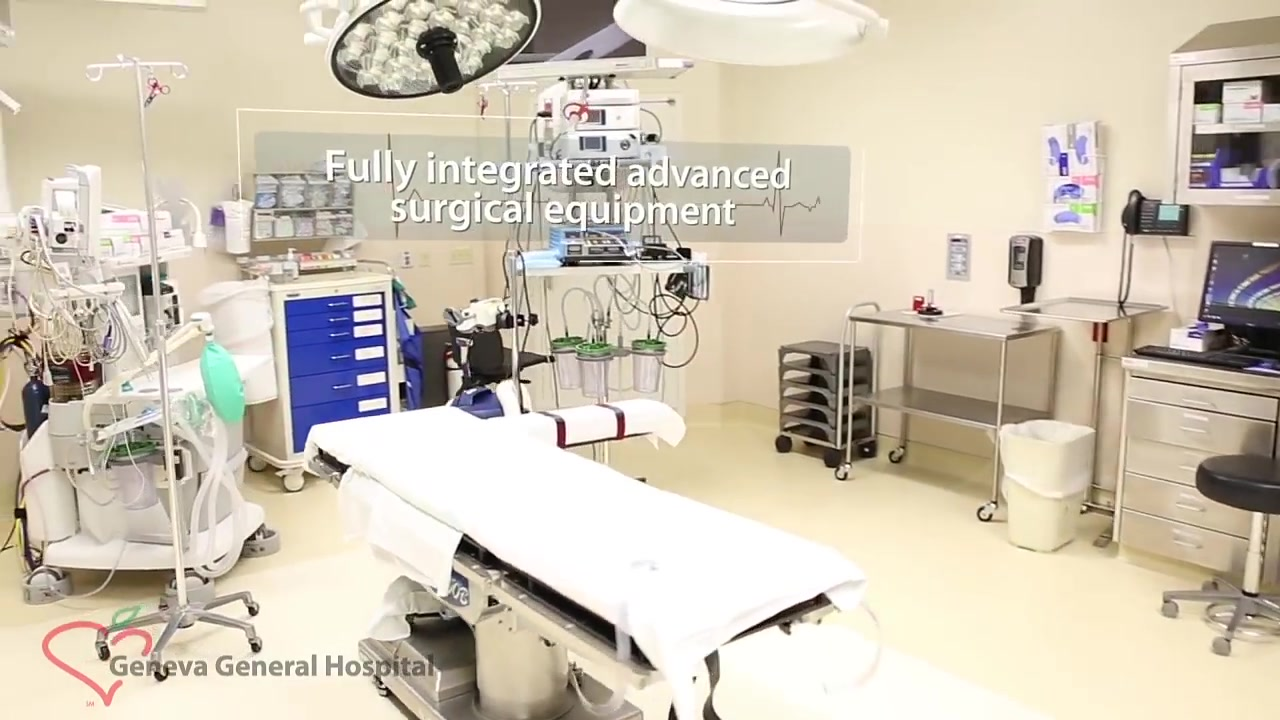bedside_monitor: (494, 1, 655, 78)
breathing_tube: (146, 391, 249, 578)
cabinet: (1162, 18, 1280, 210)
chair: (1162, 453, 1280, 657)
computer: (1197, 240, 1280, 333)
dispenser: (1007, 234, 1045, 304)
drawer: (1111, 357, 1280, 576)
electrosurgical_unit: (548, 225, 631, 261)
handle: (1179, 396, 1214, 409), (1172, 538, 1203, 552), (1171, 502, 1207, 513), (1178, 423, 1208, 436), (1176, 462, 1201, 473), (326, 301, 351, 308), (328, 354, 352, 361), (328, 316, 351, 323), (327, 331, 350, 338), (331, 384, 354, 390), (329, 331, 351, 336), (330, 316, 349, 321), (333, 385, 355, 389), (330, 303, 350, 306), (329, 356, 353, 358)
iv_pole: (83, 54, 193, 605)
keyboard: (1134, 345, 1265, 369)
medical_drawer: (245, 271, 400, 492)
operating_bed: (302, 398, 881, 720)
surgical_light: (324, 1, 544, 104), (612, 1, 890, 68)
telephone: (1121, 189, 1189, 241)
utility_cart: (835, 305, 1061, 517), (998, 296, 1170, 544)
ventilator: (16, 260, 283, 605)
waste_bin: (998, 420, 1095, 554)
